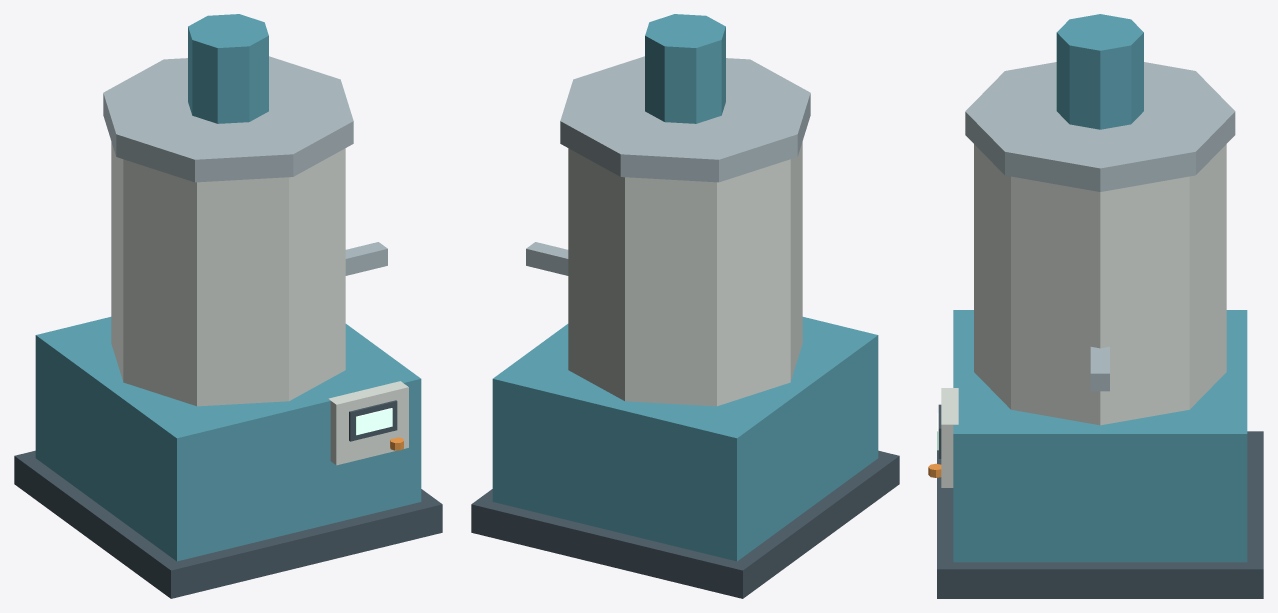
Rendered from batch-mixing-vessel.glb.
3 views of the same model, side by side, from view 1: azimuth 30°, elevation 25°; view 2: azimuth 150°, elevation 25°; view 3: azimuth 270°, elevation 25° (orthographic). The views are drawn at different scales.
Parts seen in each view (by area): view 1: blue, cream, steel, dark, light; view 2: blue, cream, steel, dark; view 3: cream, blue, steel, dark.
Part boxes in pixels (left/top/right/bottom): blue: left=35, top=14, right=421, bottom=561; cream: left=111, top=142, right=408, bottom=465; steel: left=103, top=56, right=387, bottom=275; dark: left=14, top=400, right=442, bottom=598; light: left=356, top=408, right=392, bottom=435; blue: left=492, top=14, right=878, bottom=561; cream: left=568, top=142, right=802, bottom=406; steel: left=526, top=56, right=810, bottom=275; dark: left=471, top=450, right=899, bottom=598; cream: left=941, top=144, right=1226, bottom=487; blue: left=953, top=14, right=1247, bottom=562; steel: left=965, top=62, right=1235, bottom=391; dark: left=937, top=404, right=1263, bottom=598.
Bounding box in the file's own units: 1.61 × 2.52 × 1.54.
